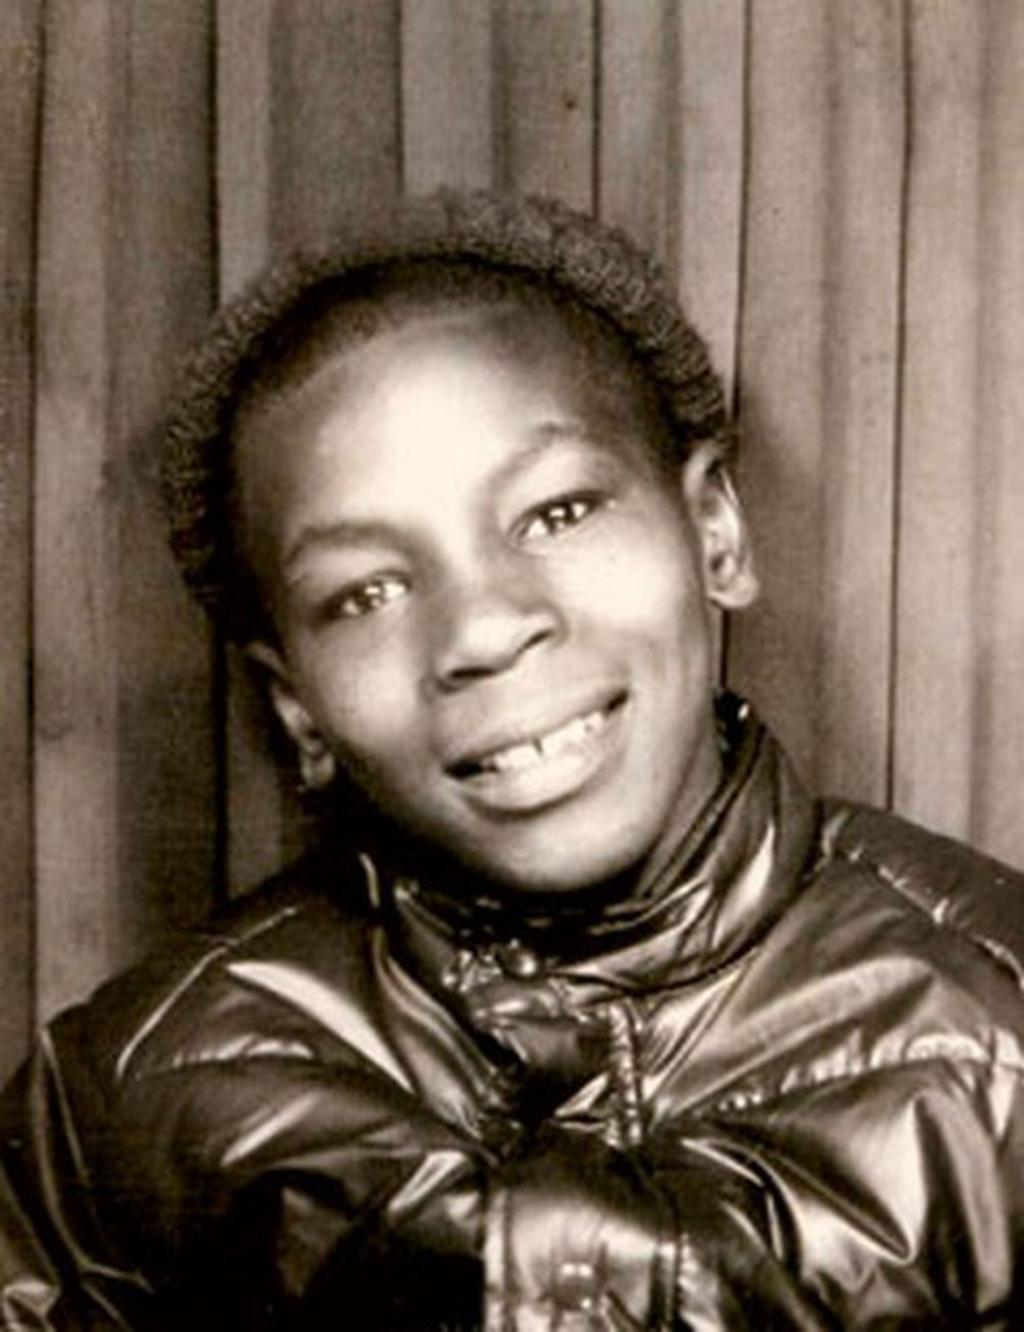face: (268, 385, 684, 889)
